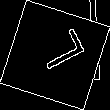L_SW: (25, 30, 85, 80)
